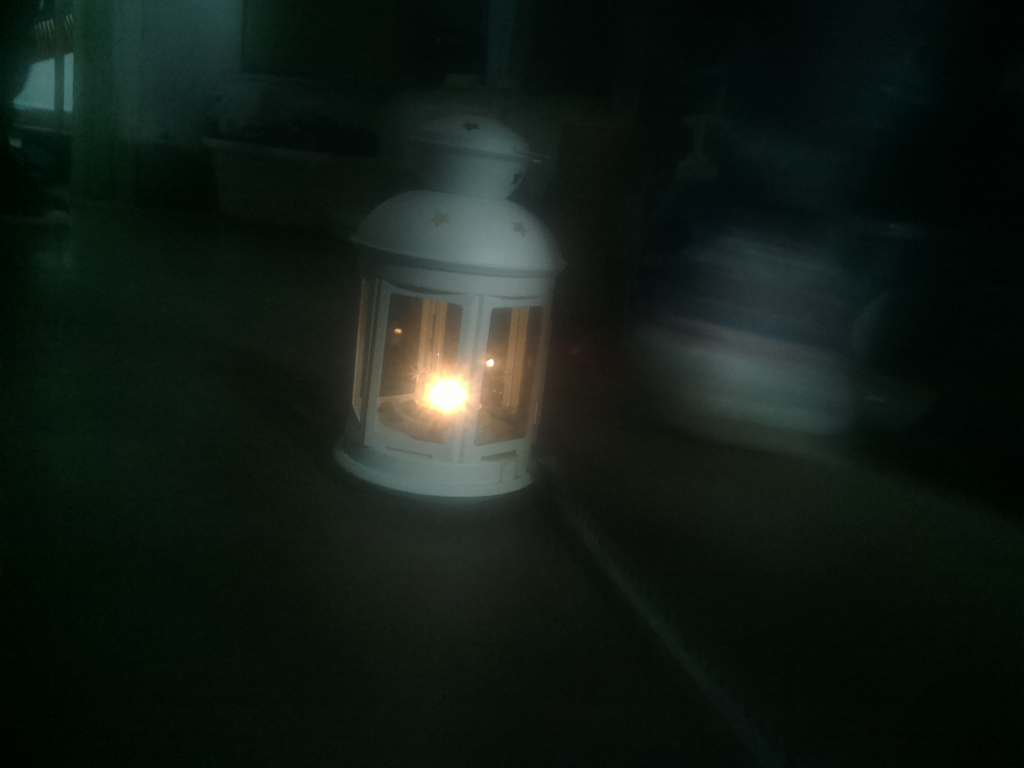fire: (379, 347, 497, 435)
